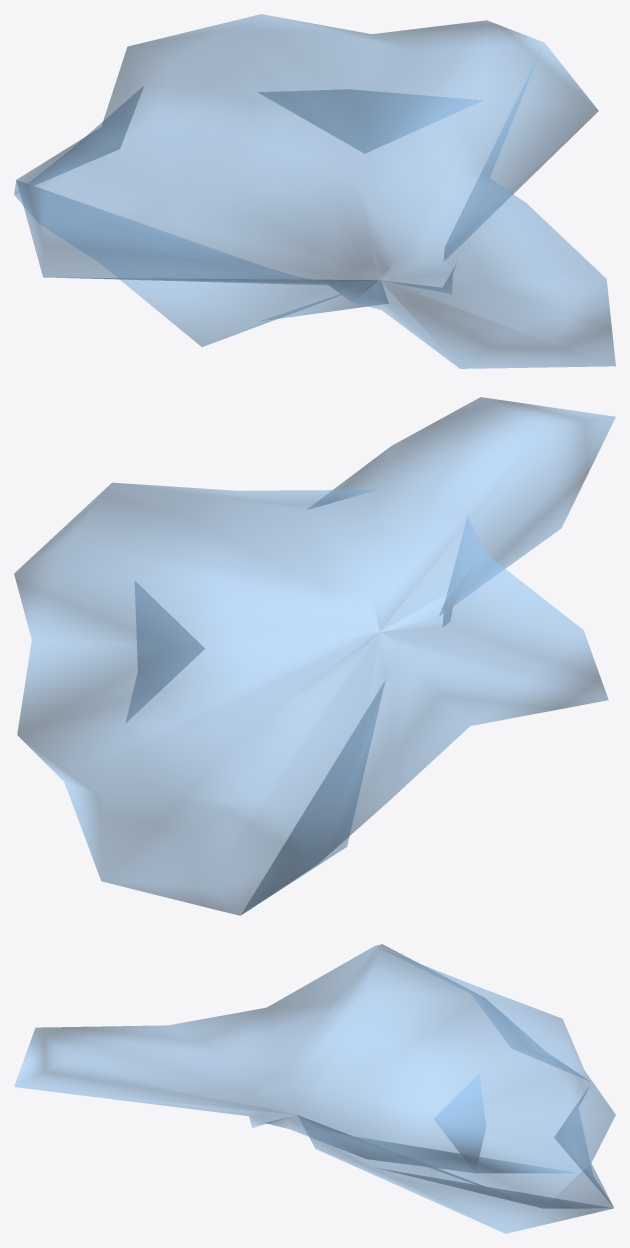
The model's file is mleech_shield.gltf.
3 renders of one model, top to bottom at view 1: azimuth 30°, elevation 25°; view 2: azimuth 150°, elevation 25°; view 3: azimuth 270°, elevation 25°, orthographic. The views are drawn at different scales.
Parts seen in each view (by area): view 1: mleech.shield; view 2: mleech.shield; view 3: mleech.shield.
Part boxes in pixels (x1=…): mleech.shield: x1=14, y1=14, x2=615, y2=368; mleech.shield: x1=14, y1=397, x2=615, y2=915; mleech.shield: x1=14, y1=944, x2=615, y2=1233.
Size of the model in its own units: 18.27 by 10.11 by 24.7.
